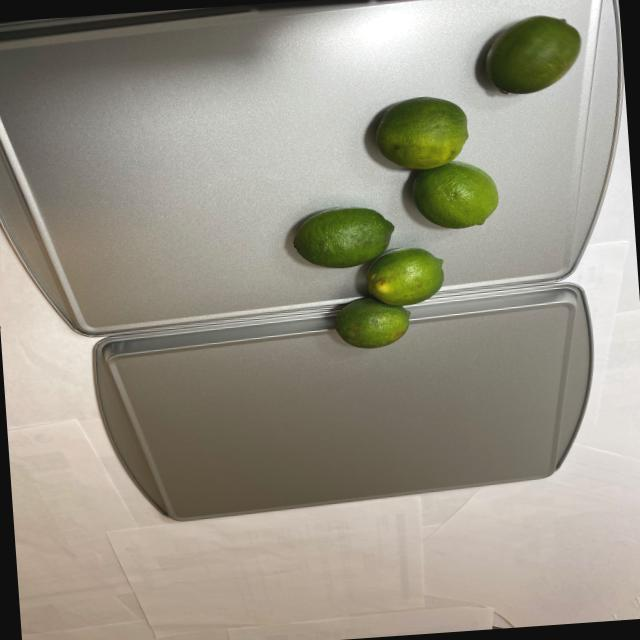lemon: (274, 14, 601, 357)
